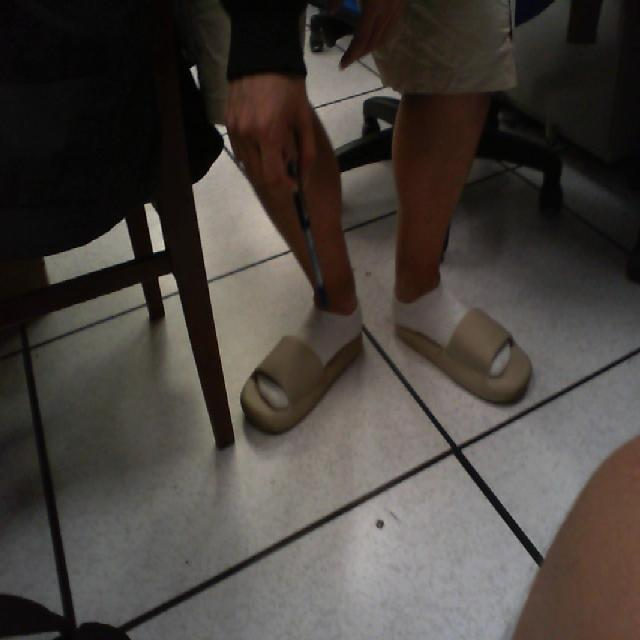Pen: (268, 144, 336, 302)
